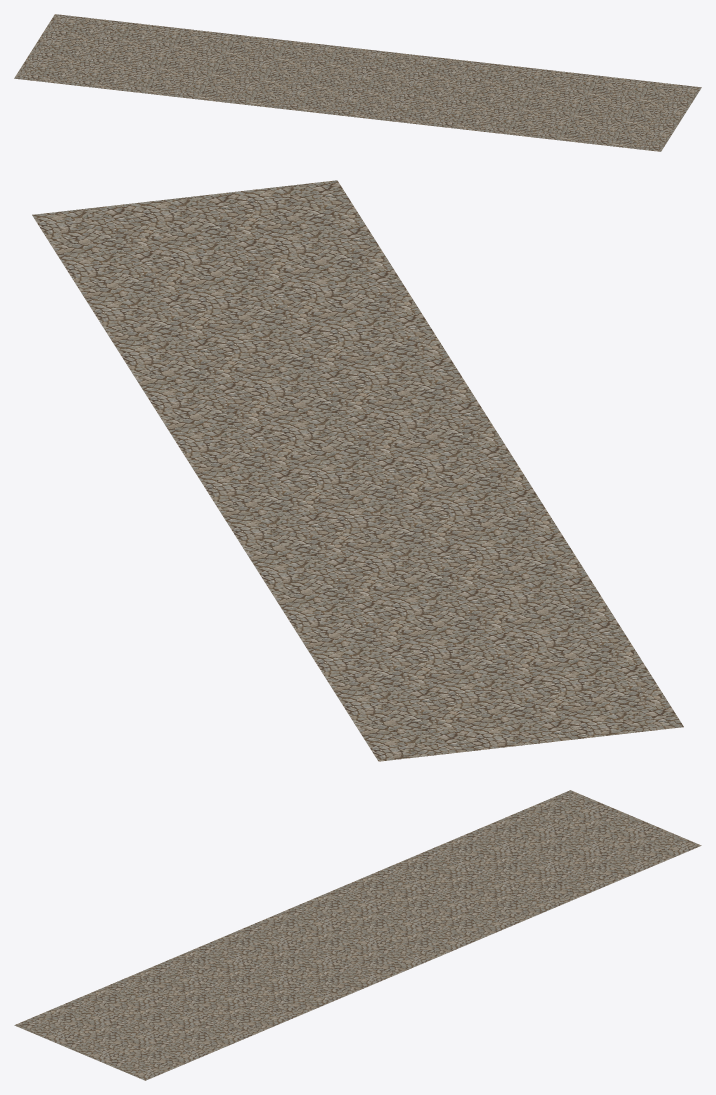
Rendered from Tile21.fbx.
The picture shows the model from 3 angles, top to bottom: view 1: azimuth 30°, elevation 25°; view 2: azimuth 150°, elevation 25°; view 3: azimuth 270°, elevation 25°; orthographic projection. The views are drawn at different scales.
Visible parts, largest first — view 1: LV_Navarra_City_Floor04_SM_KSS; view 2: LV_Navarra_City_Floor04_SM_KSS; view 3: LV_Navarra_City_Floor04_SM_KSS.
Part boxes in pixels (x1,y1,x2,y2): LV_Navarra_City_Floor04_SM_KSS: (14,14,701,151); LV_Navarra_City_Floor04_SM_KSS: (32,180,683,761); LV_Navarra_City_Floor04_SM_KSS: (14,790,701,1080).
Size of the model in its own units: 10.94 by 0.000215 by 10.94.
1 material, 1 textured.
